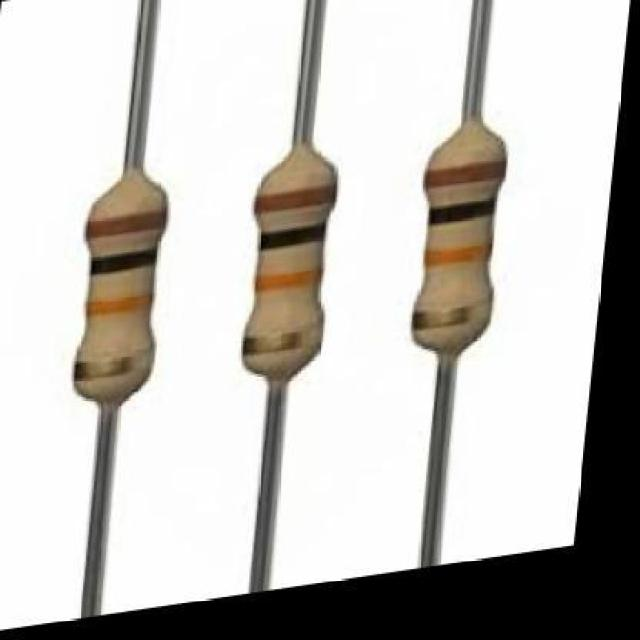Resistor: (74, 0, 168, 616), (242, 0, 338, 591), (411, 0, 506, 566)
